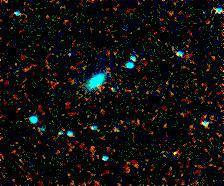star: (161, 138, 191, 168)
